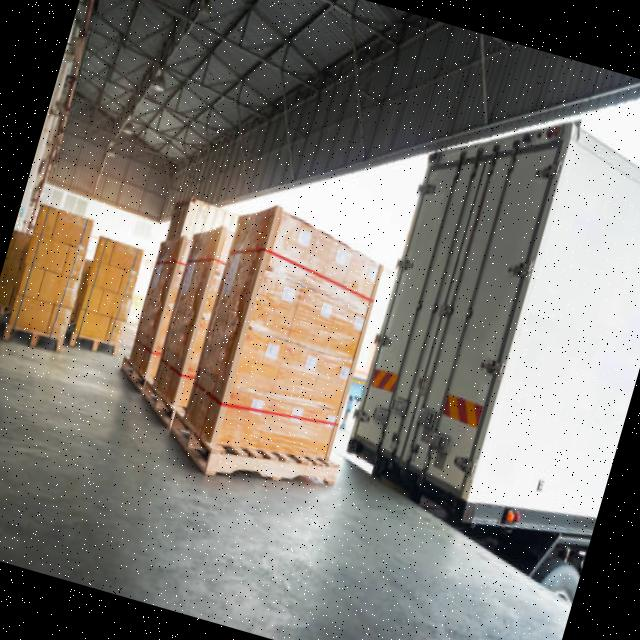Wooden-Pallets: (163, 406, 342, 495), (112, 351, 154, 407), (1, 318, 64, 354), (136, 383, 178, 434), (65, 327, 122, 362)
